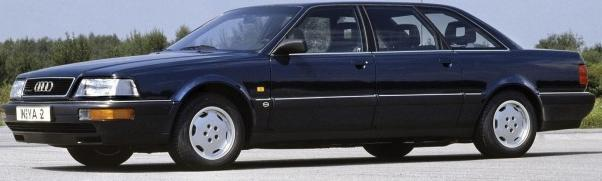front_view: (2, 71, 152, 148)
headlight: (76, 70, 142, 103)
side_glass: (278, 7, 508, 53)
